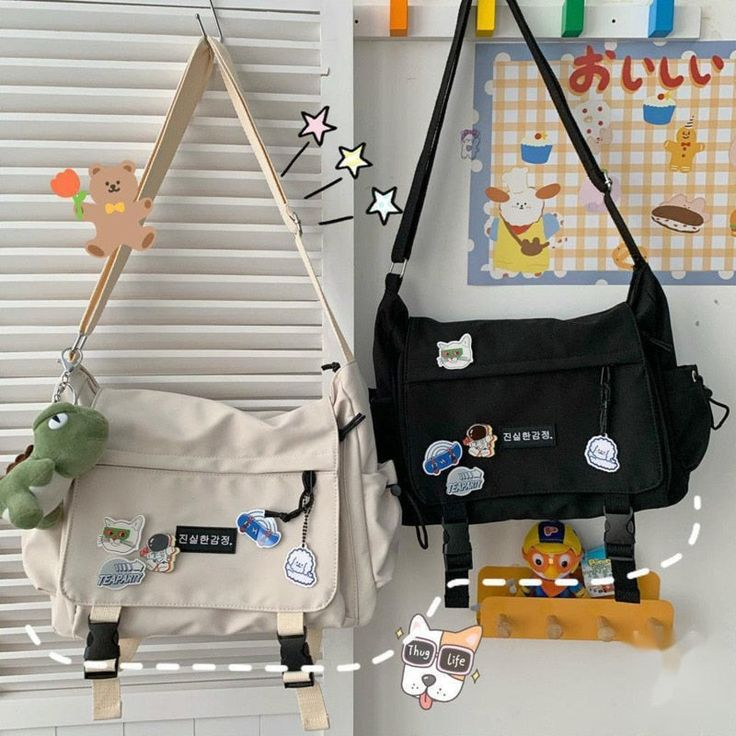nylon: (21, 1, 714, 731)
